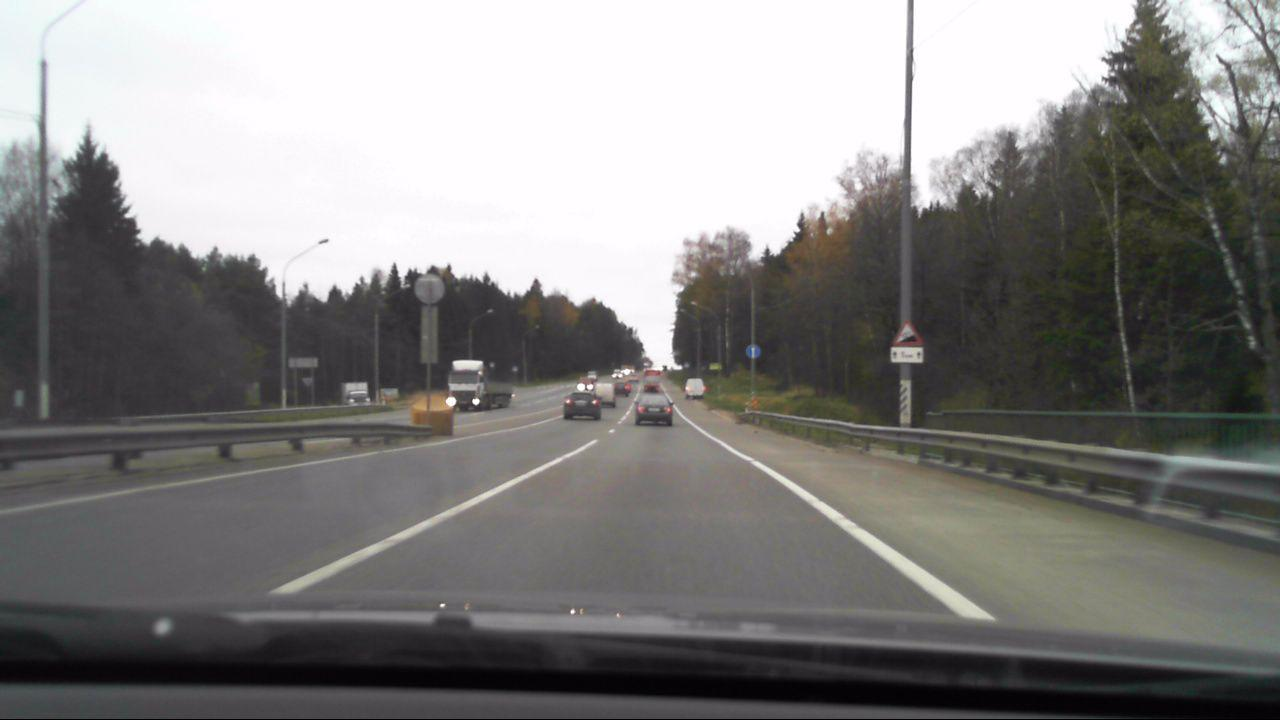1_14: (889, 321, 926, 346)
4_1_1: (745, 343, 760, 360)
8_2_1: (888, 346, 925, 363)
